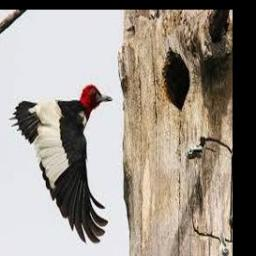Woodpecker: (8, 85, 112, 243)
